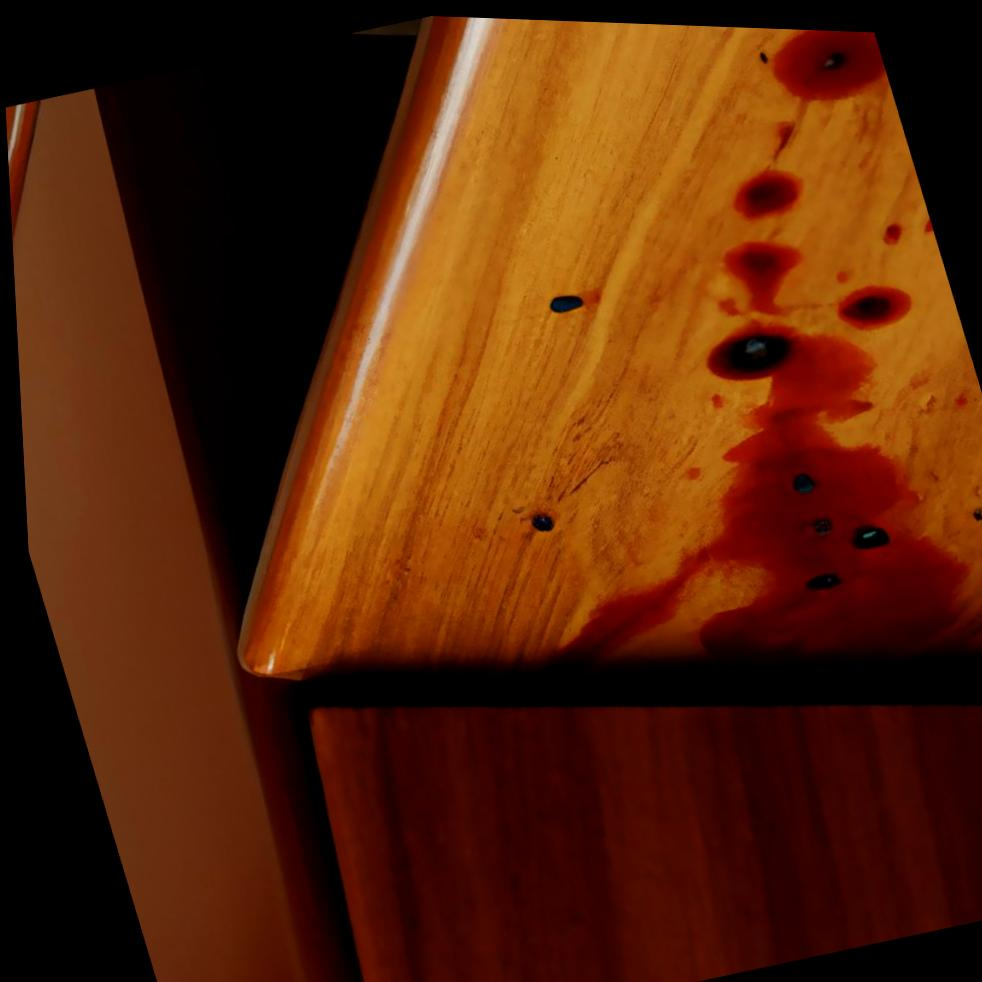Fire: (541, 313, 968, 661), (713, 236, 822, 314), (772, 23, 886, 96), (731, 165, 803, 216), (880, 218, 900, 241), (921, 212, 932, 227)
